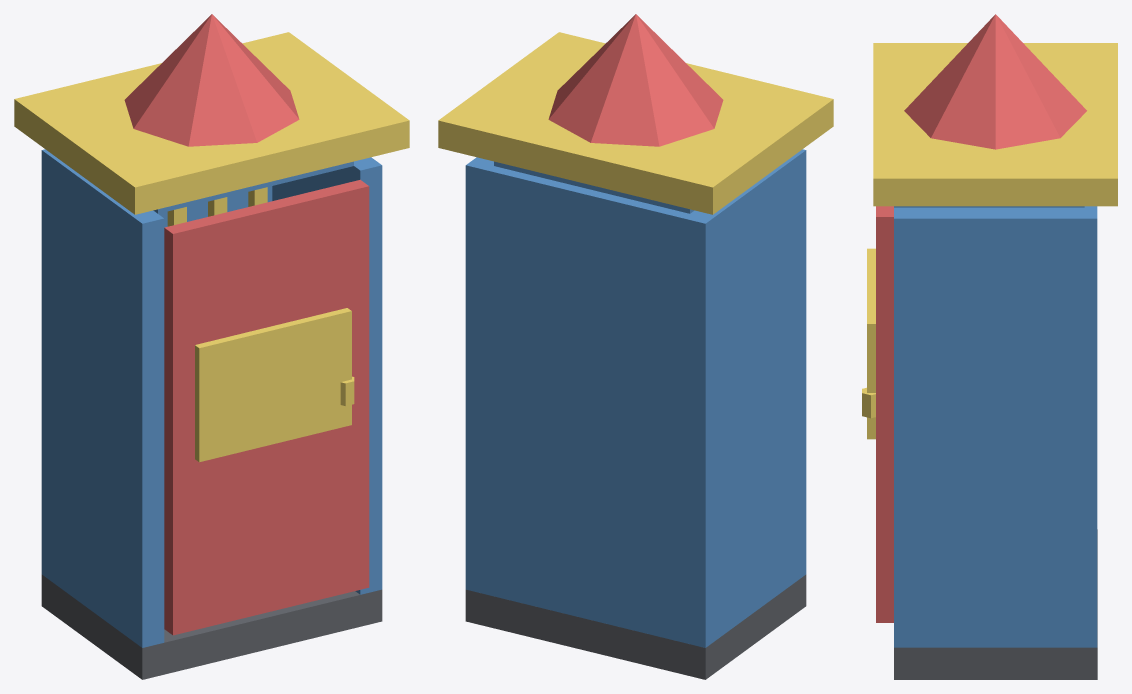
File: travelling-circus-and-big-top-magicians-cabinet-46c48bcd__36260.glb
The picture shows the model from 3 angles, left to right: view 1: azimuth 30°, elevation 25°; view 2: azimuth 150°, elevation 25°; view 3: azimuth 270°, elevation 25°; orthographic projection.
Parts seen in each view (by area): view 1: door/stripe, magicians-cabinet-azure, magicians-cabinet-gold, door/gold, magicians-cabinet-stripe, magicians-cabinet-charcoal; view 2: magicians-cabinet-azure, magicians-cabinet-gold, magicians-cabinet-stripe, magicians-cabinet-charcoal; view 3: magicians-cabinet-azure, magicians-cabinet-gold, magicians-cabinet-stripe, door/stripe, magicians-cabinet-charcoal, door/gold.
Part boxes in pixels (left/top/right/bottom): door/stripe: left=164, top=179, right=369, bottom=635; magicians-cabinet-azure: left=41, top=149, right=382, bottom=647; magicians-cabinet-gold: left=14, top=32, right=409, bottom=226; door/gold: left=195, top=308, right=354, bottom=462; magicians-cabinet-stripe: left=124, top=14, right=299, bottom=146; magicians-cabinet-charcoal: left=41, top=574, right=382, bottom=679; magicians-cabinet-azure: left=465, top=149, right=806, bottom=647; magicians-cabinet-gold: left=438, top=32, right=833, bottom=214; magicians-cabinet-stripe: left=548, top=14, right=723, bottom=146; magicians-cabinet-charcoal: left=465, top=574, right=806, bottom=679; magicians-cabinet-azure: left=894, top=206, right=1097, bottom=647; magicians-cabinet-gold: left=873, top=43, right=1117, bottom=206; magicians-cabinet-stripe: left=904, top=14, right=1086, bottom=149; door/stripe: left=876, top=206, right=893, bottom=622; magicians-cabinet-charcoal: left=894, top=529, right=1097, bottom=679; door/gold: left=862, top=248, right=875, bottom=439.
Size of the model in its own units: 1.26 by 2.63 by 1.
